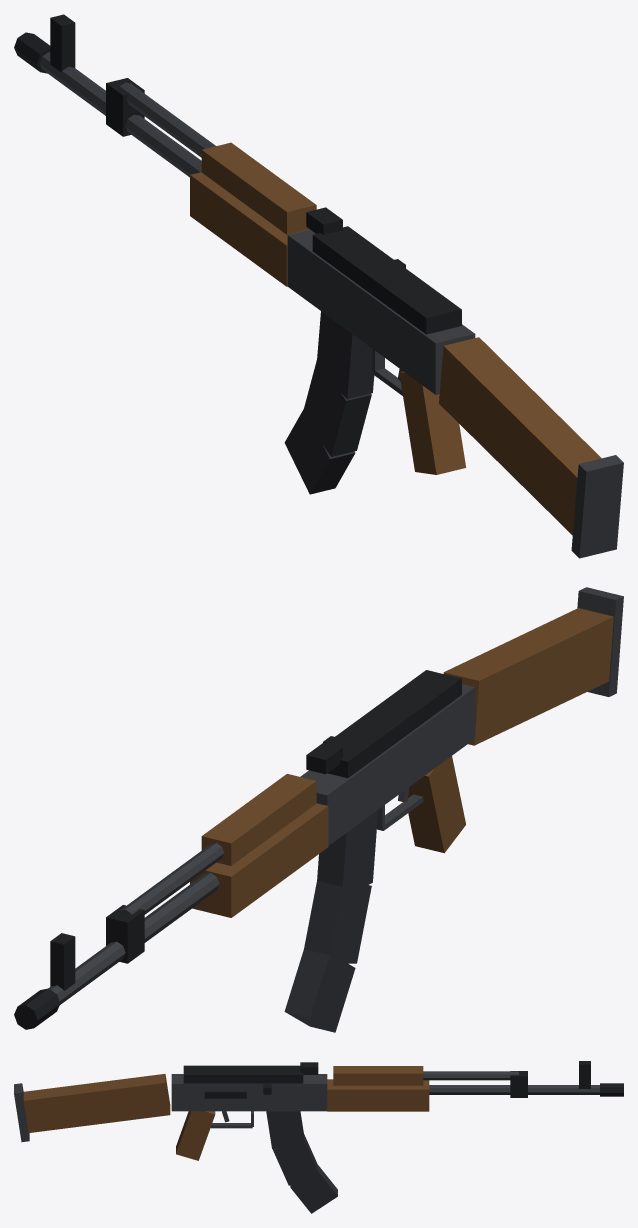
3 views of the same model, one above another, from view 1: azimuth 30°, elevation 25°; view 2: azimuth 150°, elevation 25°; view 3: azimuth 270°, elevation 25° (orthographic). The views are drawn at different scales.
Parts seen in each view (by area): view 1: ak; view 2: ak; view 3: ak.
Part boxes in pixels (x1,y1,x2,y2): ak: (14,14,623,558); ak: (14,587,623,1032); ak: (14,1061,623,1213).
Size of the model in its own units: 0.059 by 0.2724 by 1.02.
